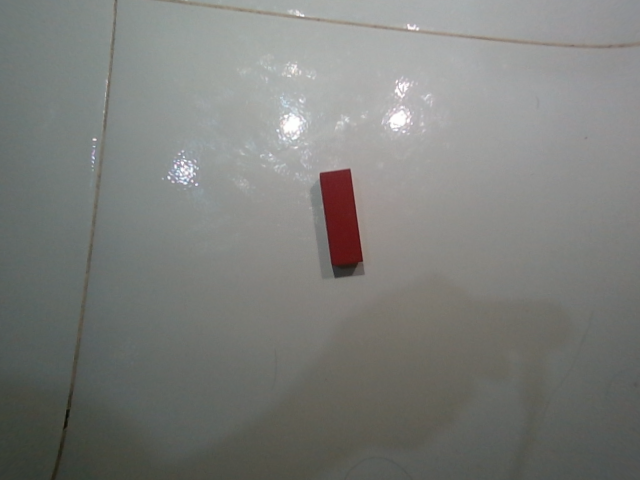Balok-Merah-Marun: (318, 168, 365, 270)
